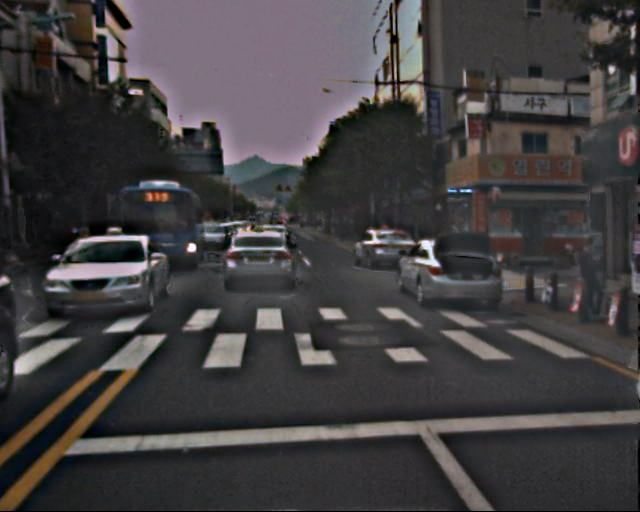person: (575, 235, 610, 320), (518, 218, 538, 259)
